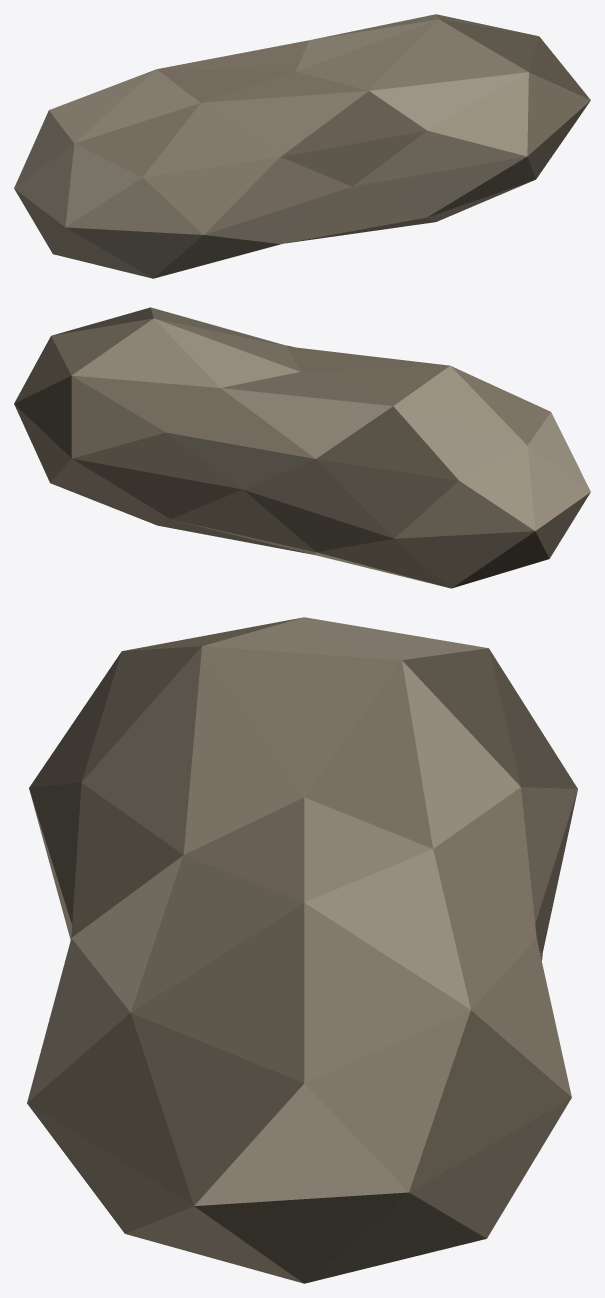
Rendered from Itokawa.glb.
3 renders of one model, top to bottom at view 1: azimuth 30°, elevation 25°; view 2: azimuth 150°, elevation 25°; view 3: azimuth 270°, elevation 25°, orthographic. The views are drawn at different scales.
Parts seen in each view (by area): view 1: Itokawa; view 2: Itokawa; view 3: Itokawa.
Part boxes in pixels (box(x1,y1,x2,y2)): Itokawa: box(14, 14, 590, 278); Itokawa: box(14, 307, 590, 588); Itokawa: box(27, 617, 577, 1283).
Bounding box in the file's own units: 0.3096 × 0.1007 × 0.1409.
